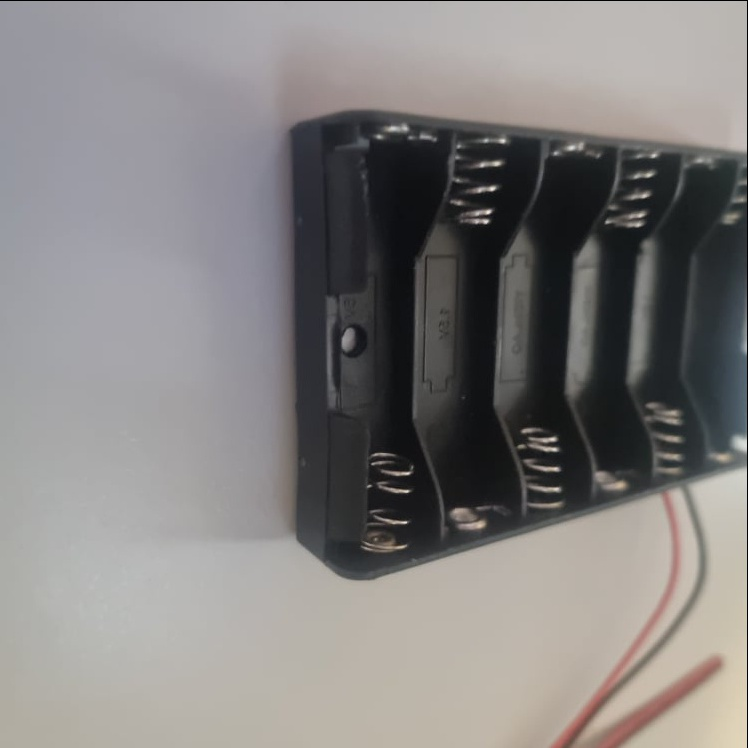BATTERY BOX: (292, 108, 748, 579)
